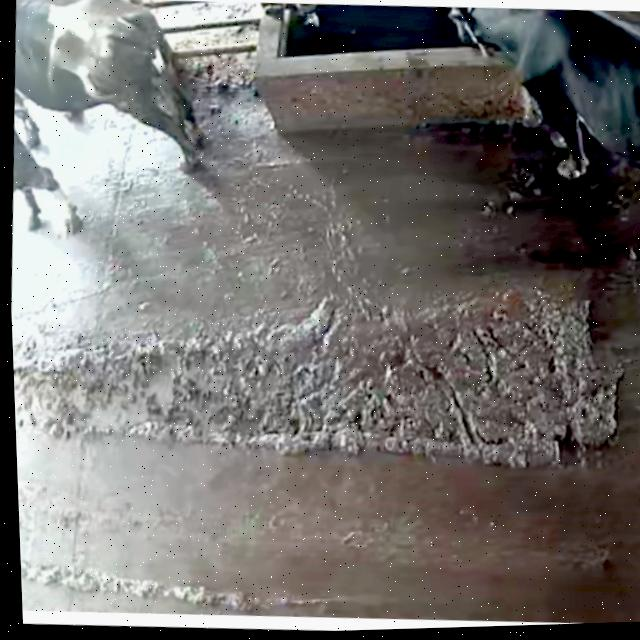drink: (371, 0, 563, 110)
